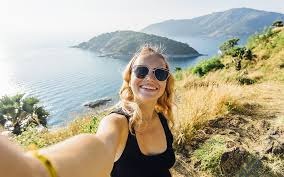Human_Female: (119, 52, 168, 175)
